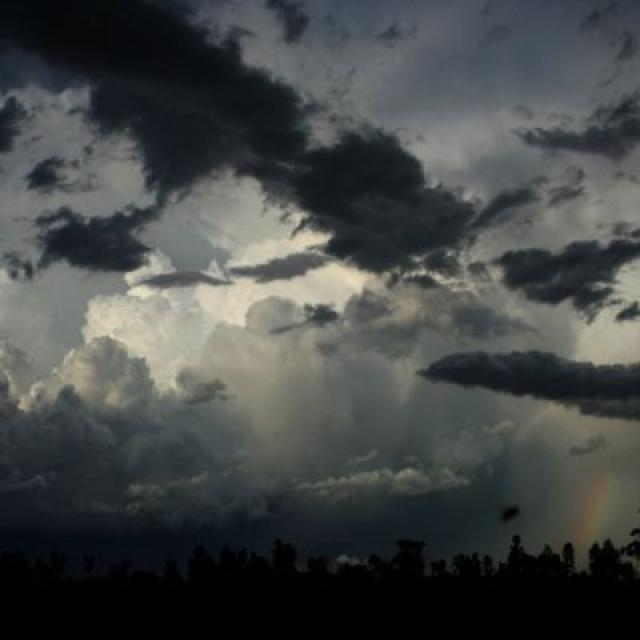Cb: (1, 1, 640, 507)
